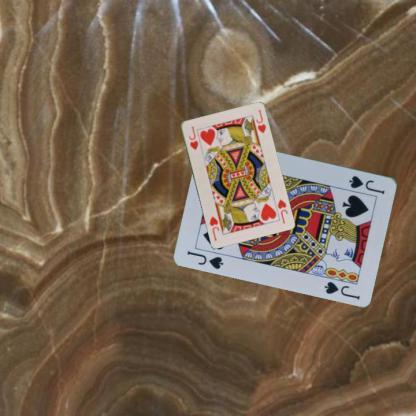Jh: (274, 196, 288, 225), (186, 124, 200, 150)
Js: (346, 172, 387, 196), (184, 248, 226, 270)
